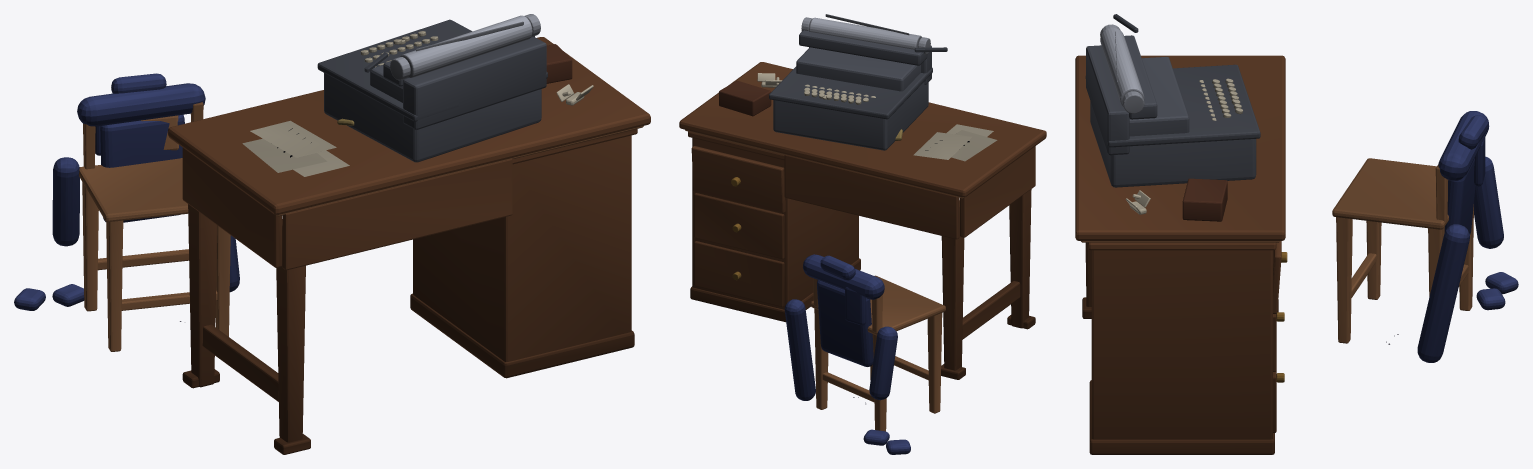
Rendered from WritingDesk.glb.
The picture shows the model from 3 angles, left to right: view 1: azimuth 30°, elevation 25°; view 2: azimuth 150°, elevation 25°; view 3: azimuth 270°, elevation 25°; orthographic projection. The views are drawn at different scales.
Parts seen in each view (by area): view 1: WritingDesk; view 2: WritingDesk; view 3: WritingDesk.
Part boxes in pixels (x1,y1,x2,y2): WritingDesk: (14, 14, 650, 454); WritingDesk: (679, 14, 1046, 454); WritingDesk: (1075, 14, 1518, 454).
Size of the model in its own units: 1.28 by 1.05 by 1.22.
